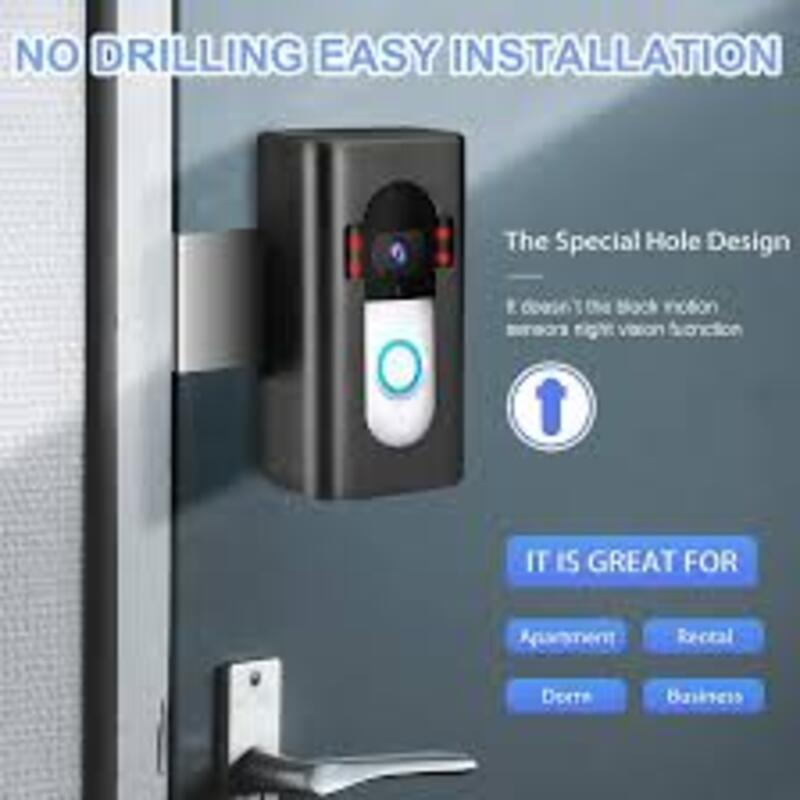doorbell: (313, 159, 457, 465)
